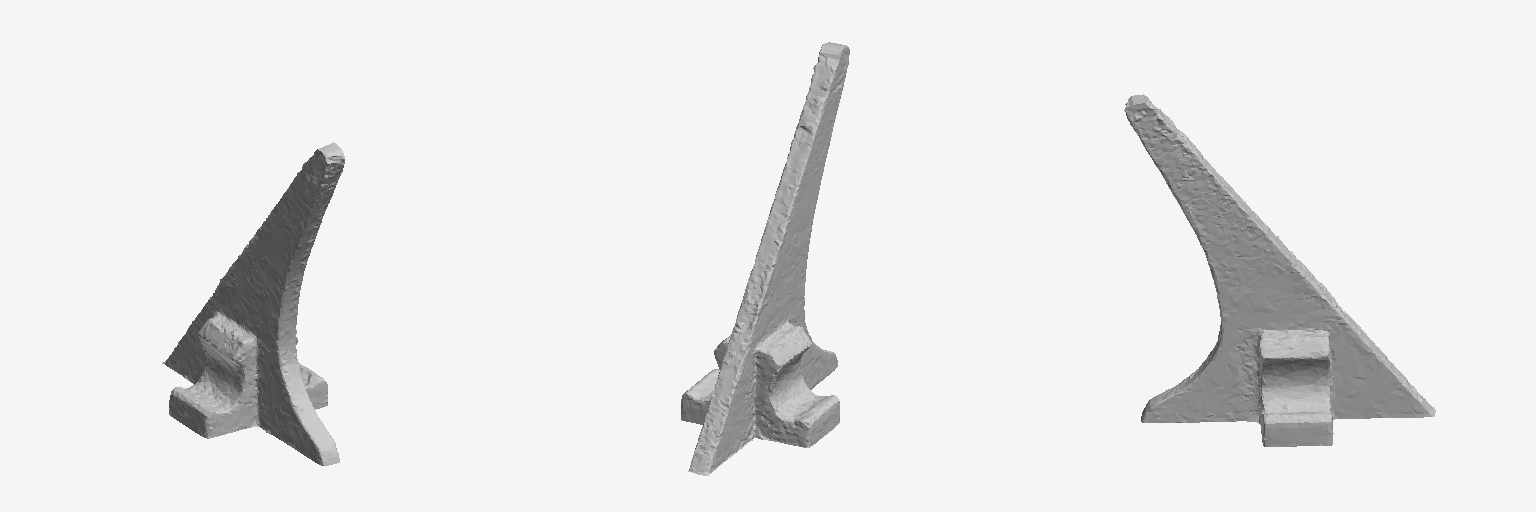
Rendered from gnomon2.obj.
3 renders of one model, left to right at view 1: azimuth 30°, elevation 25°; view 2: azimuth 150°, elevation 25°; view 3: azimuth 270°, elevation 25°, orthographic.
Parts seen in each view (by area): view 1: RuskinParkSundial06; view 2: RuskinParkSundial06; view 3: RuskinParkSundial06.
Boxes of the visible parts, box(x1,y1,x2,y2) form: RuskinParkSundial06: box(162, 142, 344, 465); RuskinParkSundial06: box(681, 42, 849, 475); RuskinParkSundial06: box(1124, 94, 1435, 446).
Size of the model in its own units: 0.0834 by 0.1961 by 0.1736.